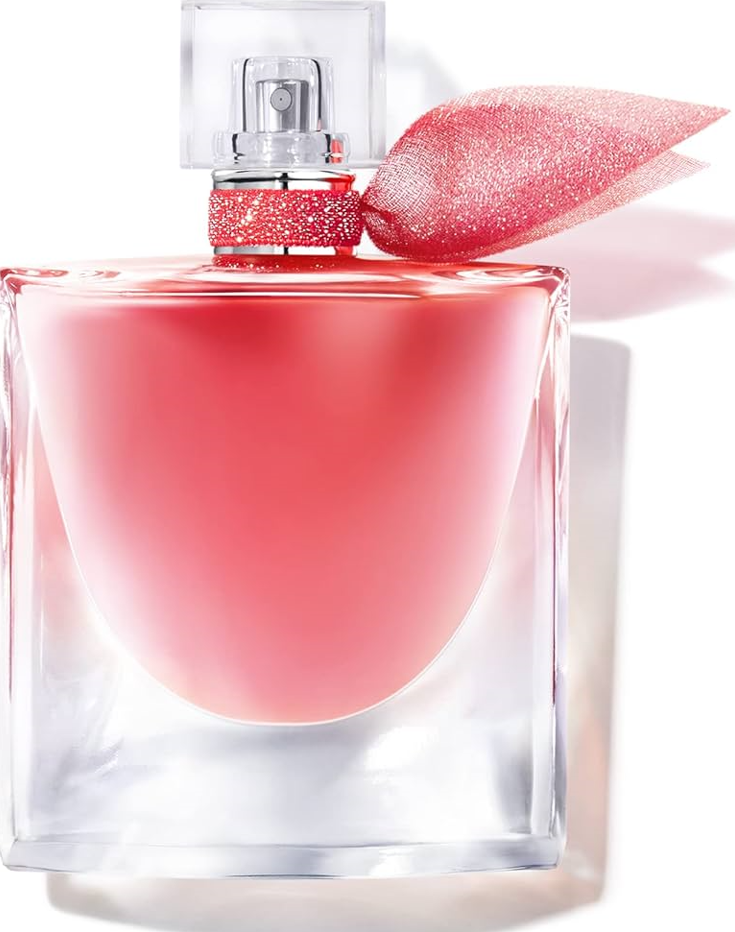lancome_la_vie_est_belle: (1, 3, 728, 882)
